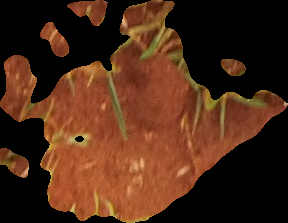soil: (3, 3, 286, 223)
